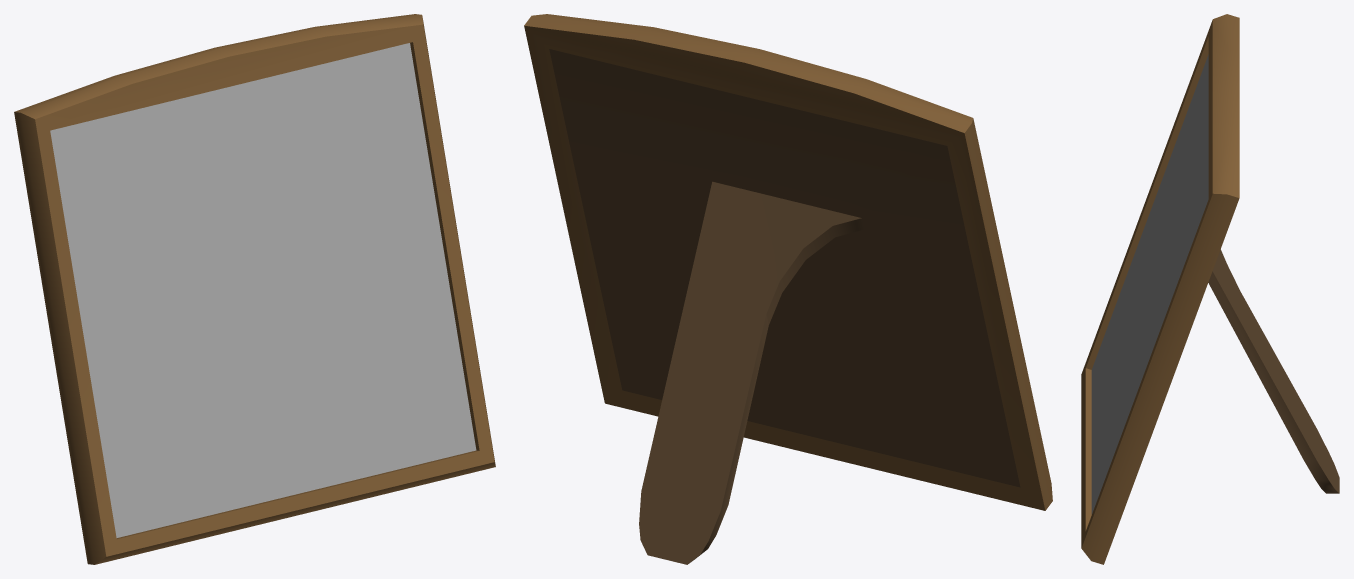
Rendered from OfficePhoto.fbx.
The picture shows the model from 3 angles, left to right: view 1: azimuth 30°, elevation 25°; view 2: azimuth 150°, elevation 25°; view 3: azimuth 270°, elevation 25°; orthographic projection. The views are drawn at different scales.
Visible parts, largest first — view 1: pCube212; view 2: pCube212; view 3: pCube212.
Part boxes in pixels (<box>): pCube212: <box>14,14,495,564</box>; pCube212: <box>524,14,1052,564</box>; pCube212: <box>1081,14,1339,564</box>.
Size of the model in its own units: 0.31 by 0.3111 by 0.1874.
